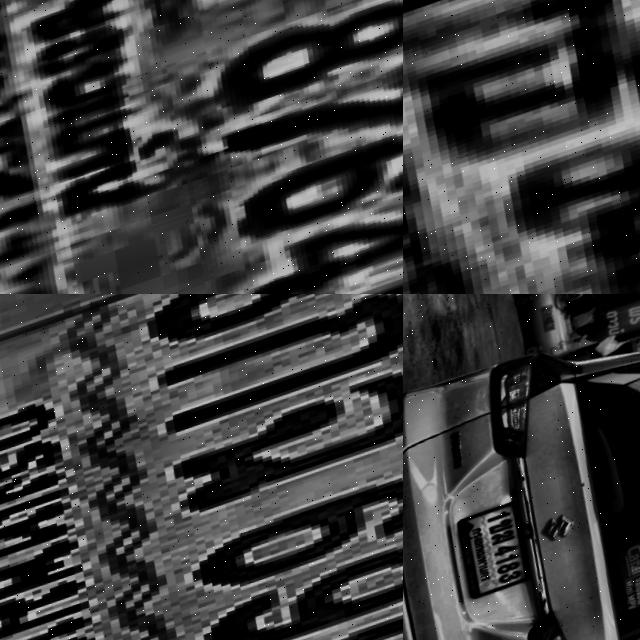license-plate: (0, 294, 403, 640), (0, 0, 403, 294), (403, 0, 640, 294), (454, 502, 545, 608)
